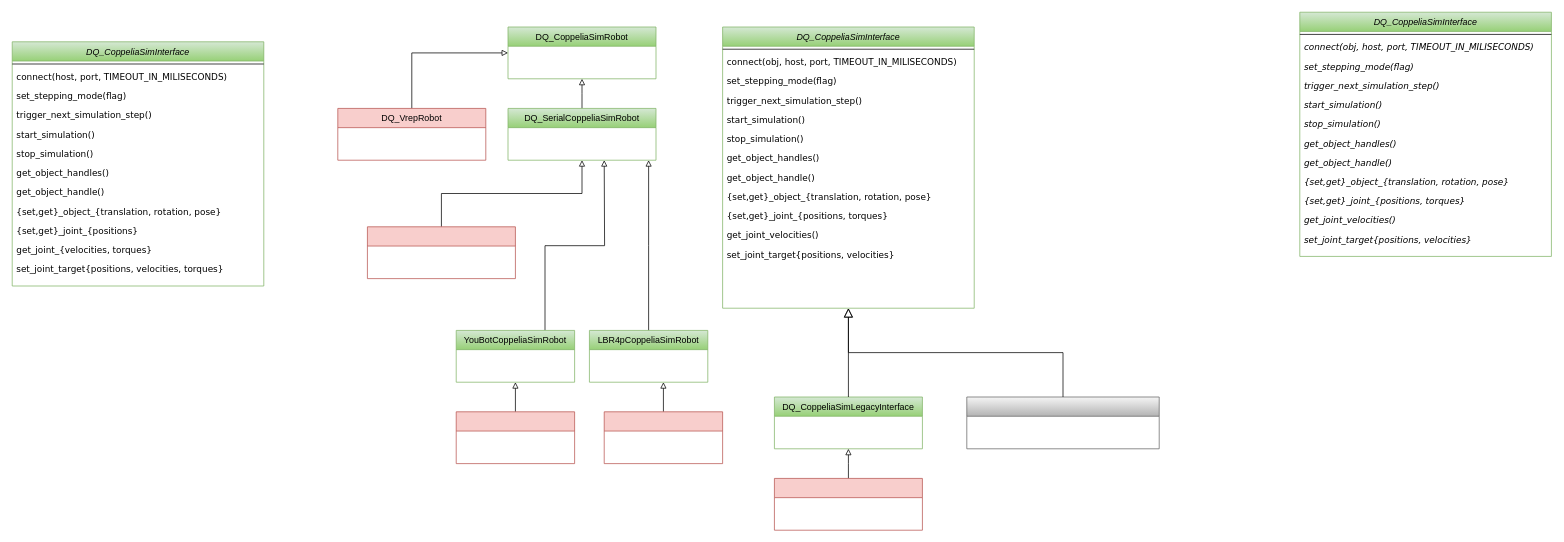
The diagram is 1564 pixels wide and 542 high, and some of its shapes have lost their labels. Here are the shapes that lost their labels. From the top down, the centre of each, then its label:
At pixel 441 252: "DQ_SerialVrepRobot".
At pixel 515 437: "YouBotVrepRobot".
At pixel 663 437: "LBR4pVrepRobot".
At pixel 1062 422: "DQ_CoppeliaSimZmqInterface (future PR)".
At pixel 848 504: "DQ_VrepInterface".
